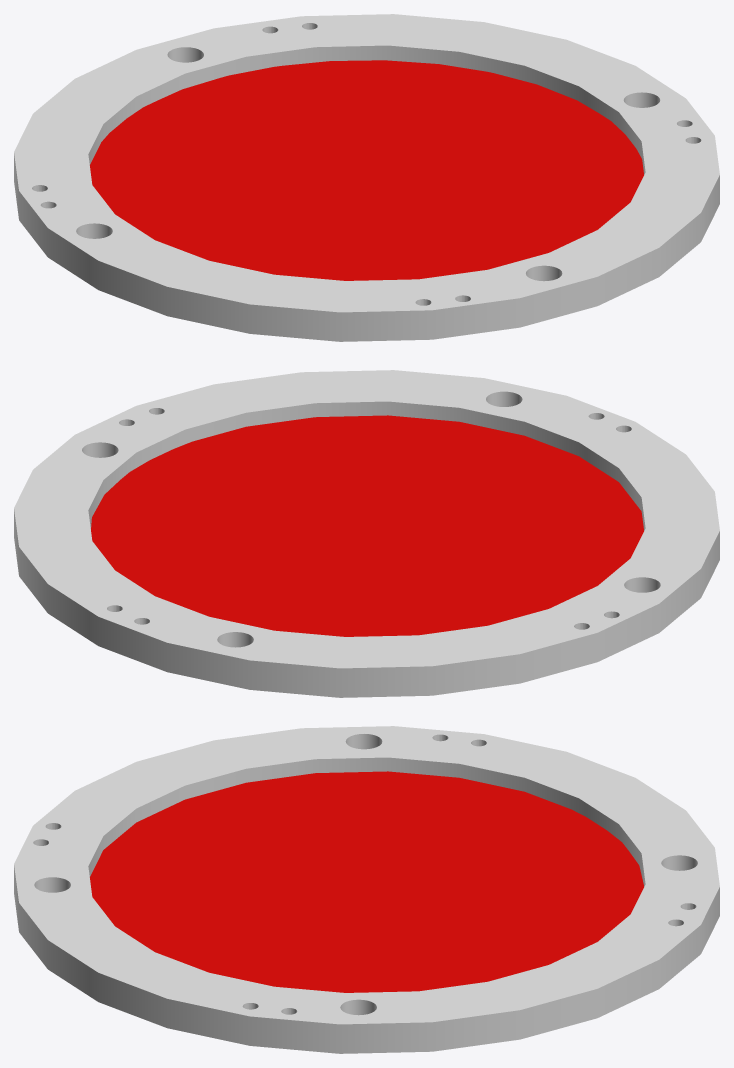
File: A_Locking Plate.fbx
3 views of the same model, one above another, from view 1: azimuth 30°, elevation 25°; view 2: azimuth 150°, elevation 25°; view 3: azimuth 270°, elevation 25° (orthographic).
Visible parts, largest first — view 1: Cylinder, 5.002; view 2: Cylinder, 5.002; view 3: Cylinder, 5.002.
Part boxes in pixels (left/top/right/bottom): Cylinder: left=90, top=60, right=643, bottom=280; 5.002: left=14, top=14, right=719, bottom=341; Cylinder: left=91, top=415, right=643, bottom=636; 5.002: left=14, top=370, right=719, bottom=697; Cylinder: left=90, top=771, right=643, bottom=992; 5.002: left=14, top=726, right=719, bottom=1053.
Size of the model in its own units: 26.63 by 1.23 by 26.63.
